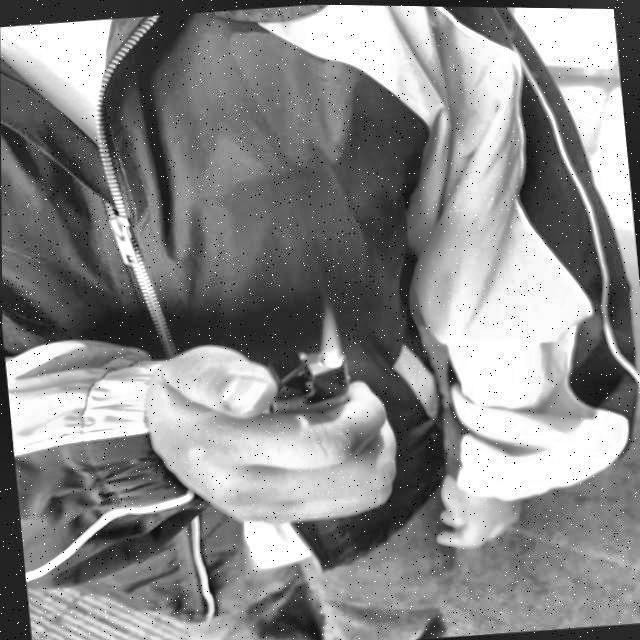Fire: (316, 310, 342, 364)
